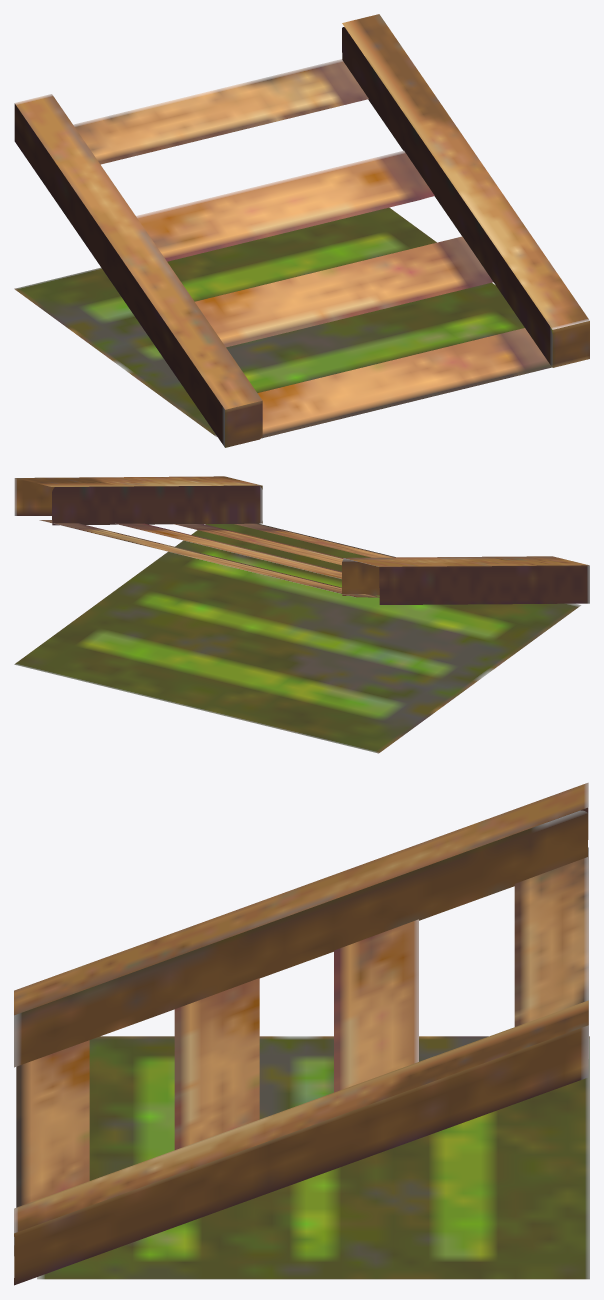
File: steps.dae
3 renders of one model, top to bottom at view 1: azimuth 30°, elevation 25°; view 2: azimuth 150°, elevation 25°; view 3: azimuth 270°, elevation 25°, orthographic. The views are drawn at different scales.
Visible parts, largest first — view 1: steps; view 2: steps; view 3: steps.
Boxes of the visible parts, bbox=[...] form: steps: bbox=[14, 14, 589, 447]; steps: bbox=[14, 476, 589, 753]; steps: bbox=[14, 782, 589, 1285].
Bounding box in the file's own units: 2 × 2 × 1.
Materials: 1 (1 with a texture image).
